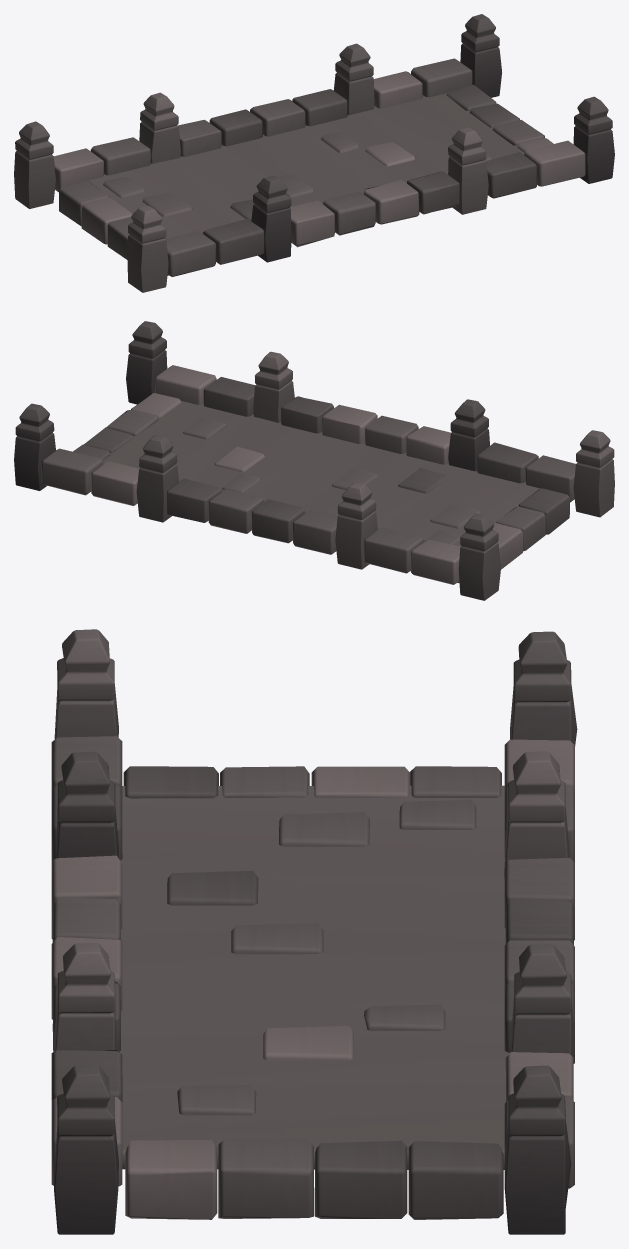
The model's file is bridge.glb.
3 renders of one model, top to bottom at view 1: azimuth 30°, elevation 25°; view 2: azimuth 150°, elevation 25°; view 3: azimuth 270°, elevation 25°, orthographic. The views are drawn at different scales.
Visible parts, largest first — view 1: Bridge.01; view 2: Bridge.01; view 3: Bridge.01.
Part boxes in pixels (bbox=[...]): Bridge.01: bbox=[14, 14, 614, 292]; Bridge.01: bbox=[14, 321, 614, 600]; Bridge.01: bbox=[51, 629, 577, 1234].
Size of the model in its own units: 147240 by 24750 by 70769.
Materials: 1 (1 with a texture image).
